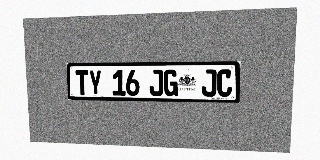1: (112, 70, 126, 96)
6: (126, 70, 139, 96)
C: (217, 69, 232, 97)
G: (164, 69, 178, 96)
J: (201, 69, 217, 97), (149, 70, 163, 96)
T: (75, 70, 89, 95)
Y: (88, 70, 102, 95)
